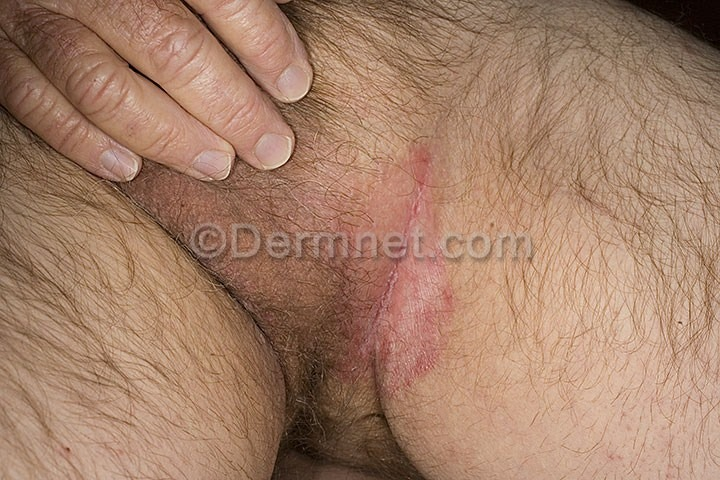Psoriasis: (303, 138, 478, 402)
